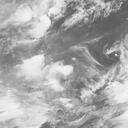cyclone: (39, 52, 99, 97)
